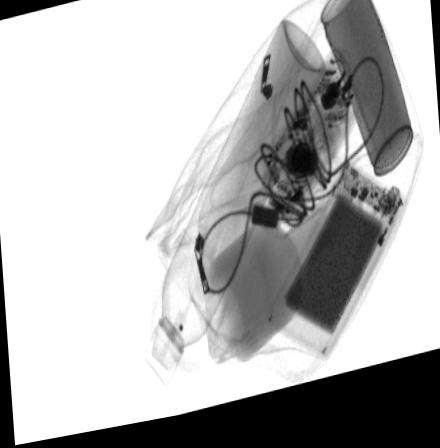Lighter: (348, 195, 405, 300)
Powerbank: (263, 169, 407, 375)
Sprayer: (143, 28, 327, 390)
